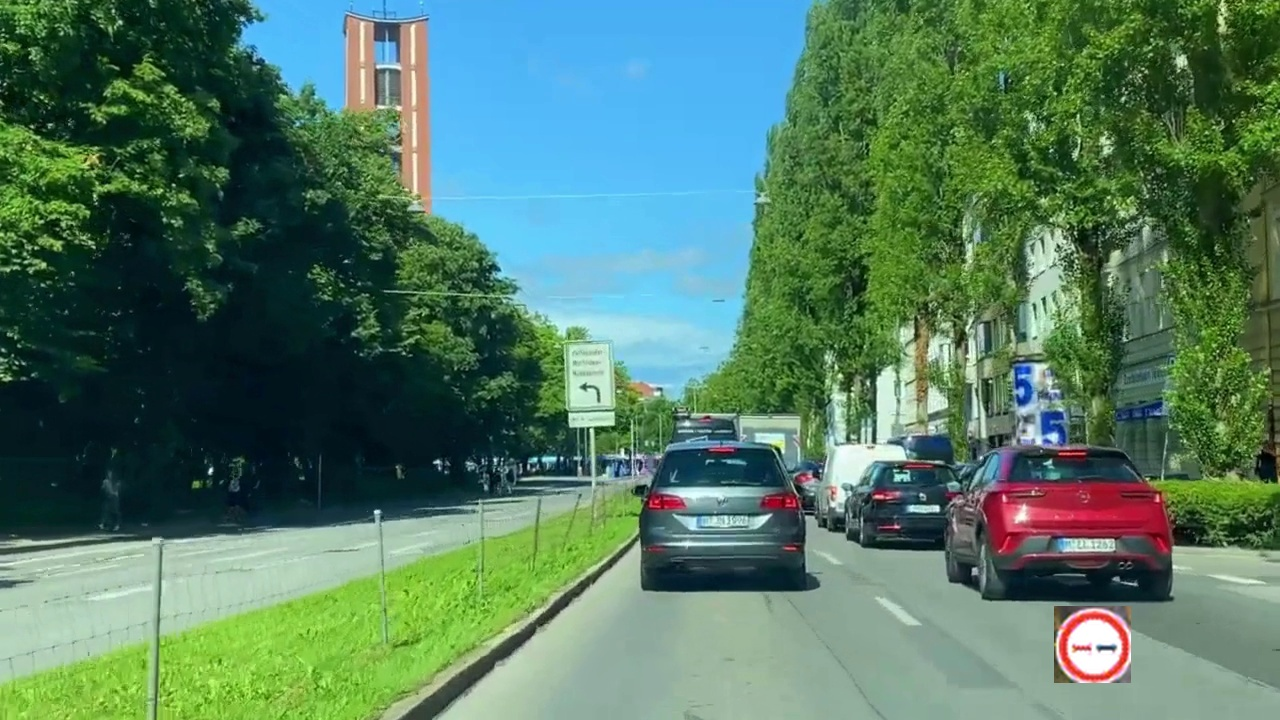No passing: (1054, 606, 1131, 683)
